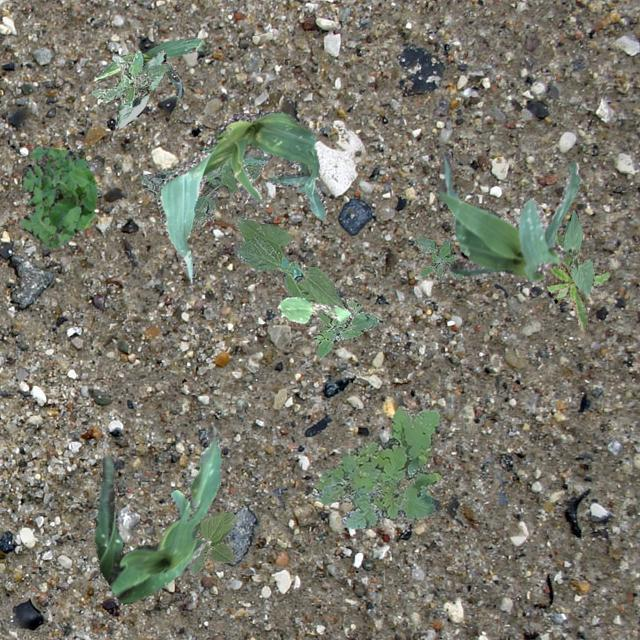crop: (156, 108, 324, 282), (94, 422, 220, 602), (436, 150, 580, 284), (234, 214, 348, 310), (92, 36, 206, 98), (114, 49, 164, 128), (188, 510, 236, 574), (560, 208, 592, 296), (276, 296, 350, 322)
weed: (312, 404, 439, 528), (140, 156, 268, 232), (20, 146, 96, 247), (546, 228, 610, 329), (90, 48, 170, 106), (312, 296, 378, 358), (413, 236, 463, 278)
